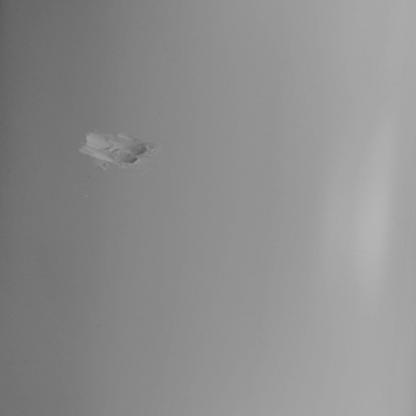sunshang: (80, 131, 159, 167)
